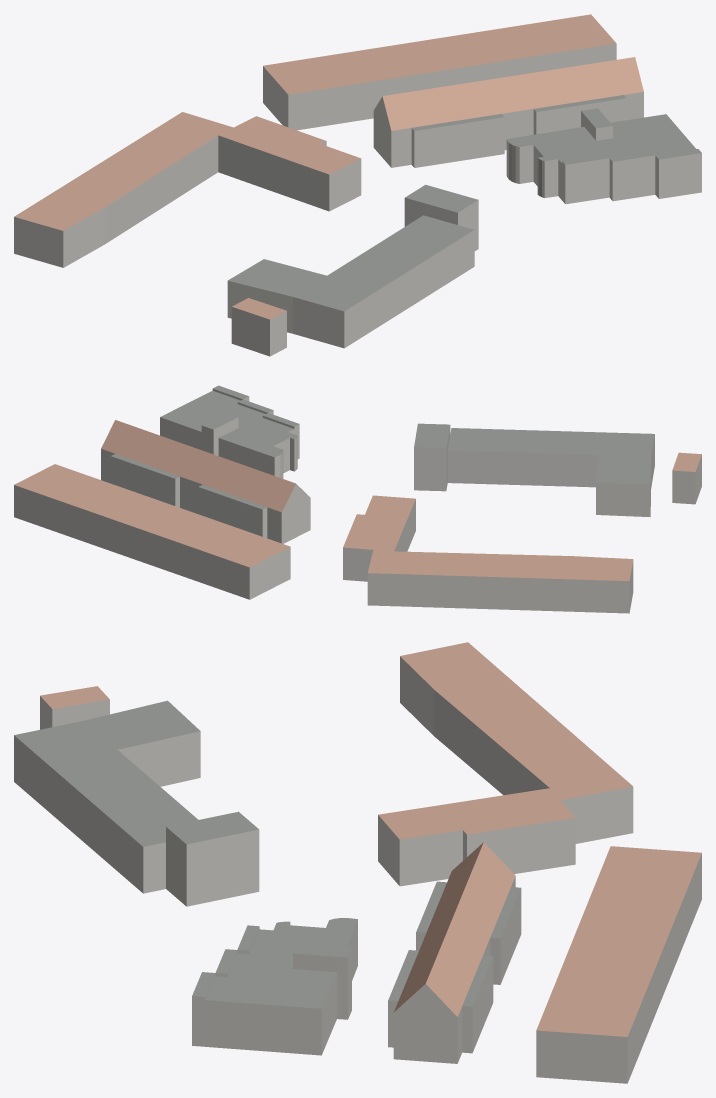
Rendered from gridID_96.dae.
The picture shows the model from 3 angles, top to bottom: view 1: azimuth 30°, elevation 25°; view 2: azimuth 150°, elevation 25°; view 3: azimuth 270°, elevation 25°; orthographic projection. The views are drawn at different scales.
Parts seen in each view (by area): view 1: model_gridID_96_w376400928, model_gridID_96_w376400924, model_gridID_96_w376403048, model_gridID_96_w387515780_001, model_gridID_96_w376198998, model_gridID_96_w376400927, model_gridID_96_w376198993_002, model_gridID_96_w376198993_003, model_gridID_96_w376198994; view 2: model_gridID_96_w376400928, model_gridID_96_w376403048, model_gridID_96_w376400924, model_gridID_96_w376198998, model_gridID_96_w387515780_001, model_gridID_96_w376400927, model_gridID_96_w376198993_002, model_gridID_96_w376198994, model_gridID_96_w376198993_003; view 3: model_gridID_96_w376400928, model_gridID_96_w376403048, model_gridID_96_w376400924, model_gridID_96_w387515780_001, model_gridID_96_w376198998, model_gridID_96_w376400927, model_gridID_96_w376198994, model_gridID_96_w376198993_002, model_gridID_96_w376198993_003.
Part boxes in pixels (<box>): model_gridID_96_w376400928: <box>263,14,616,130</box>; model_gridID_96_w376400924: <box>373,57,643,167</box>; model_gridID_96_w376403048: <box>14,112,233,267</box>; model_gridID_96_w387515780_001: <box>506,108,701,204</box>; model_gridID_96_w376198998: <box>293,215,474,348</box>; model_gridID_96_w376400927: <box>218,116,361,211</box>; model_gridID_96_w376198993_002: <box>227,259,326,333</box>; model_gridID_96_w376198993_003: <box>231,298,286,356</box>; model_gridID_96_w376198994: <box>404,184,478,250</box>; model_gridID_96_w376400928: <box>14,464,290,599</box>; model_gridID_96_w376403048: <box>367,550,633,613</box>; model_gridID_96_w376400924: <box>101,420,310,543</box>; model_gridID_96_w376198998: <box>447,428,654,488</box>; model_gridID_96_w387515780_001: <box>160,385,299,478</box>; model_gridID_96_w376400927: <box>343,495,415,581</box>; model_gridID_96_w376198993_002: <box>596,455,650,517</box>; model_gridID_96_w376198994: <box>414,423,450,491</box>; model_gridID_96_w376198993_003: <box>672,452,701,504</box>; model_gridID_96_w376400928: <box>536,846,701,1083</box>; model_gridID_96_w376403048: <box>400,642,633,843</box>; model_gridID_96_w376400924: <box>388,842,521,1063</box>; model_gridID_96_w387515780_001: <box>192,918,357,1055</box>; model_gridID_96_w376198998: <box>14,720,198,893</box>; model_gridID_96_w376400927: <box>378,788,575,886</box>; model_gridID_96_w376198994: <box>166,811,259,906</box>; model_gridID_96_w376198993_002: <box>84,700,200,786</box>; model_gridID_96_w376198993_003: <box>40,686,109,729</box>.
Size of the model in its own units: 136 by 100 by 12.5.
